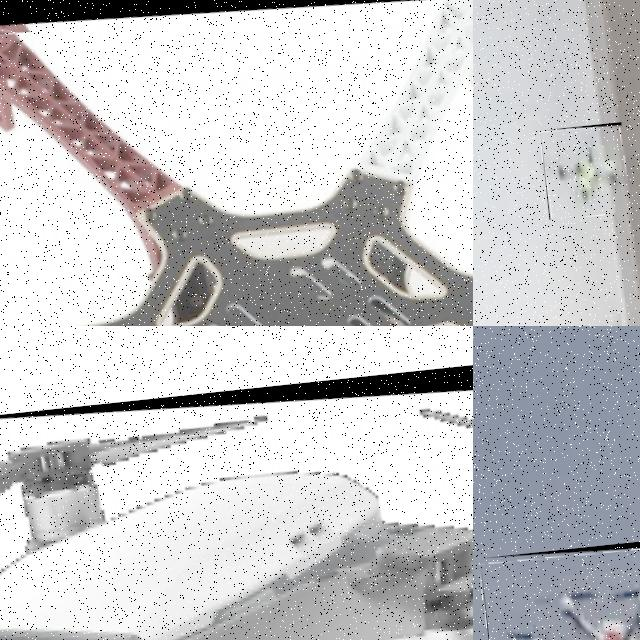0: (480, 531, 640, 640), (540, 122, 630, 220)
drone: (0, 0, 473, 326), (0, 357, 473, 640)
